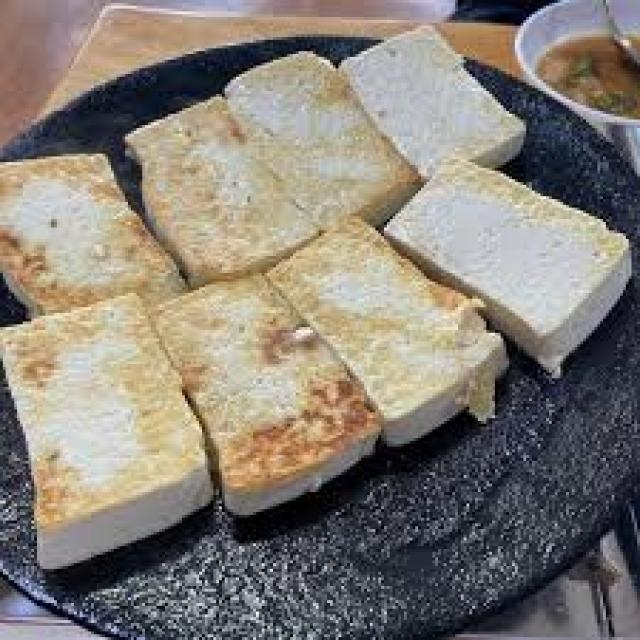tofu: (113, 54, 523, 235), (0, 303, 212, 582)
